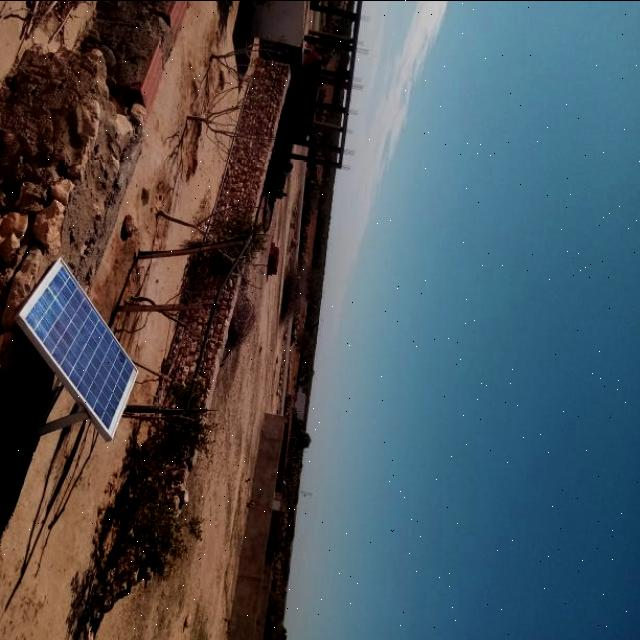Normal Solar Panel: (19, 255, 139, 438)
